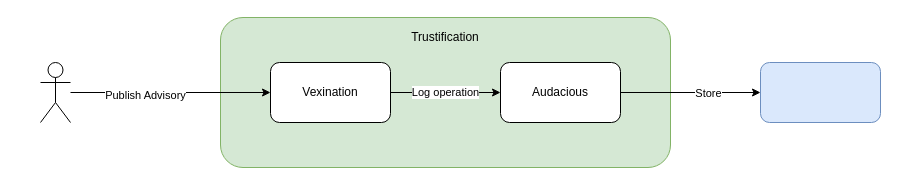
This 898x185 diagram has some shape labels left out. Here are the shapes that lost their labels. From the top down, the box of each, then its label:
(40, 62, 70, 122): Security Team
(760, 62, 880, 122): Trillian
